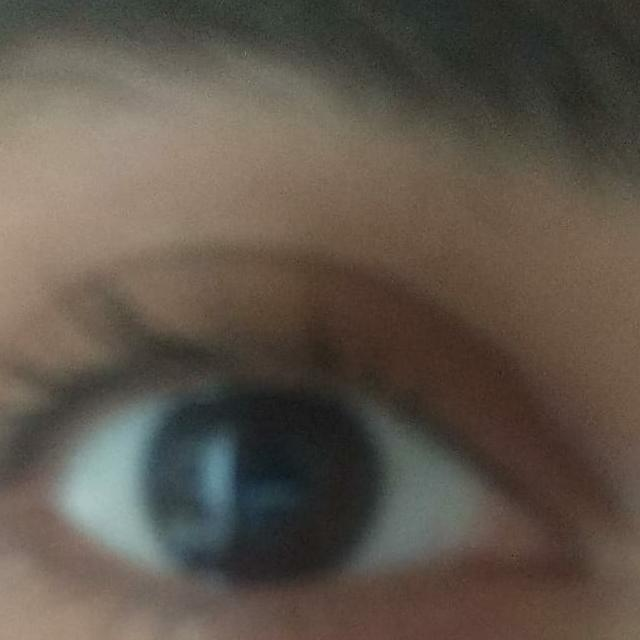eye: (33, 371, 507, 592)
iris: (144, 397, 382, 580)
